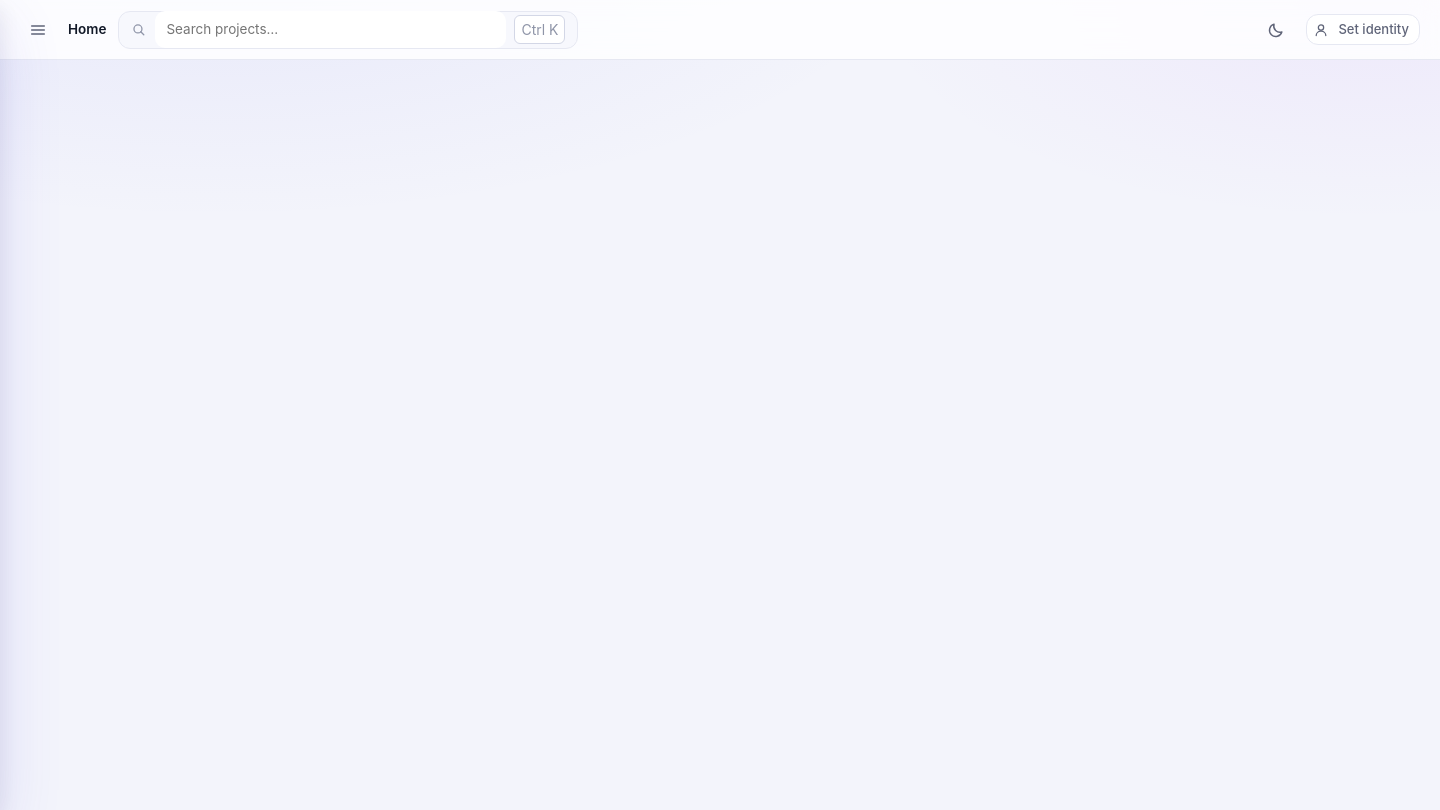
Test case: AppShell — hamburger / sidebar navigation › mobile: clicking the backdrop closes the drawer
The image size is (1440, 810).
Click the button named "open navigation". click: (38, 30)
box: left=20, top=12, right=56, bottom=48
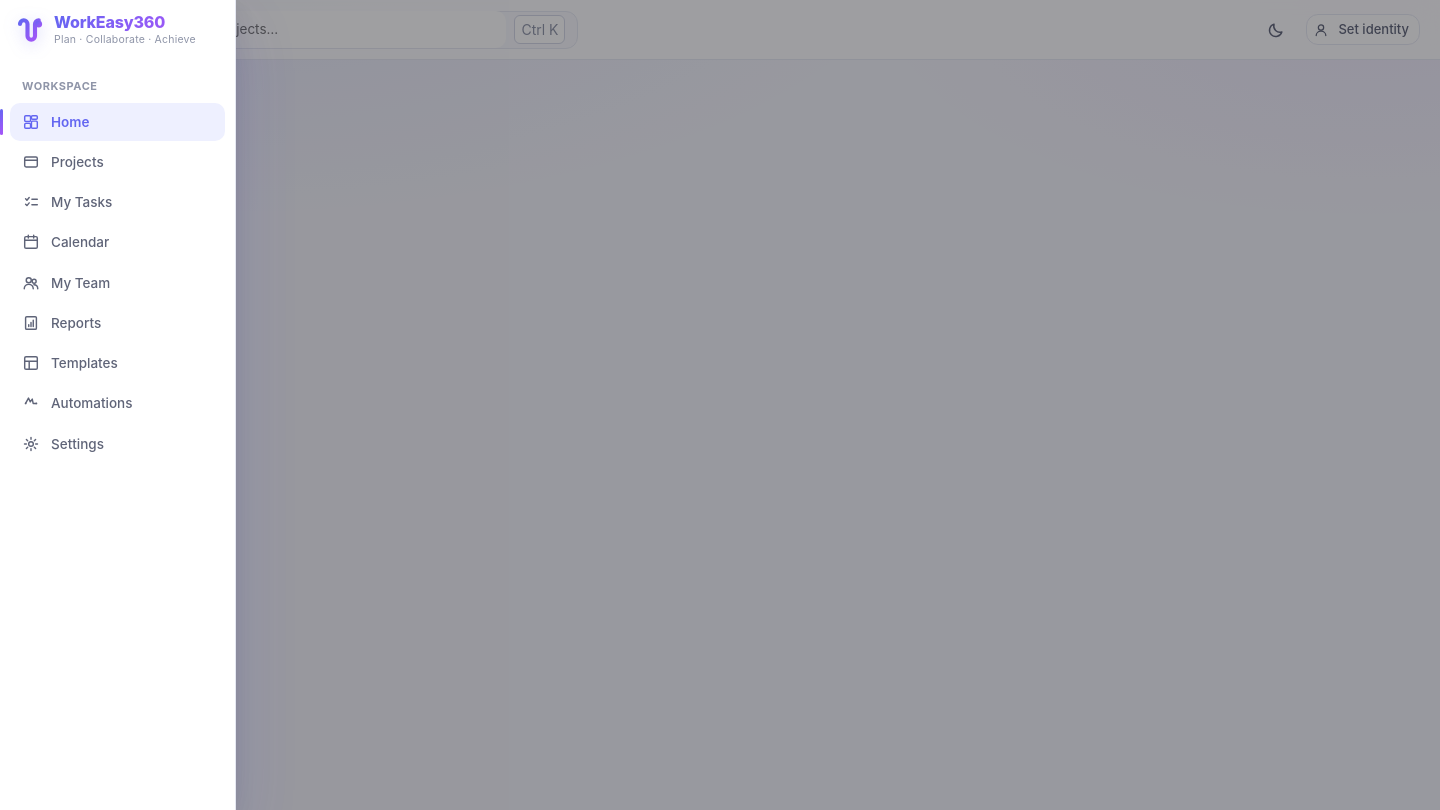
Check: the element with class "sidebar" has class "open", box left=0, top=0, right=236, bottom=809
Click the element with class "sidebar-backdrop". click: (720, 405)
box: left=0, top=0, right=1439, bottom=809
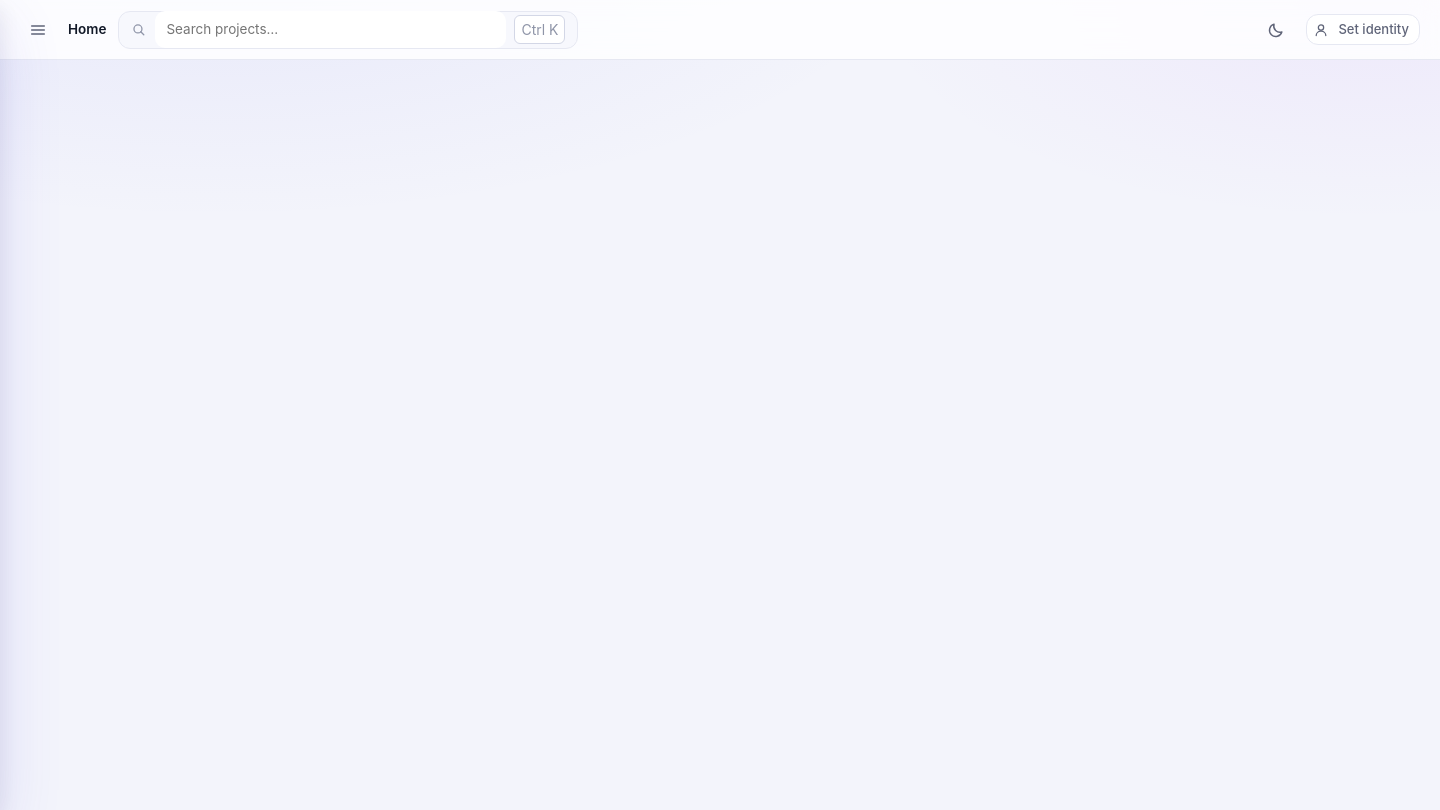
Check: the element with class "sidebar-backdrop" is gone
